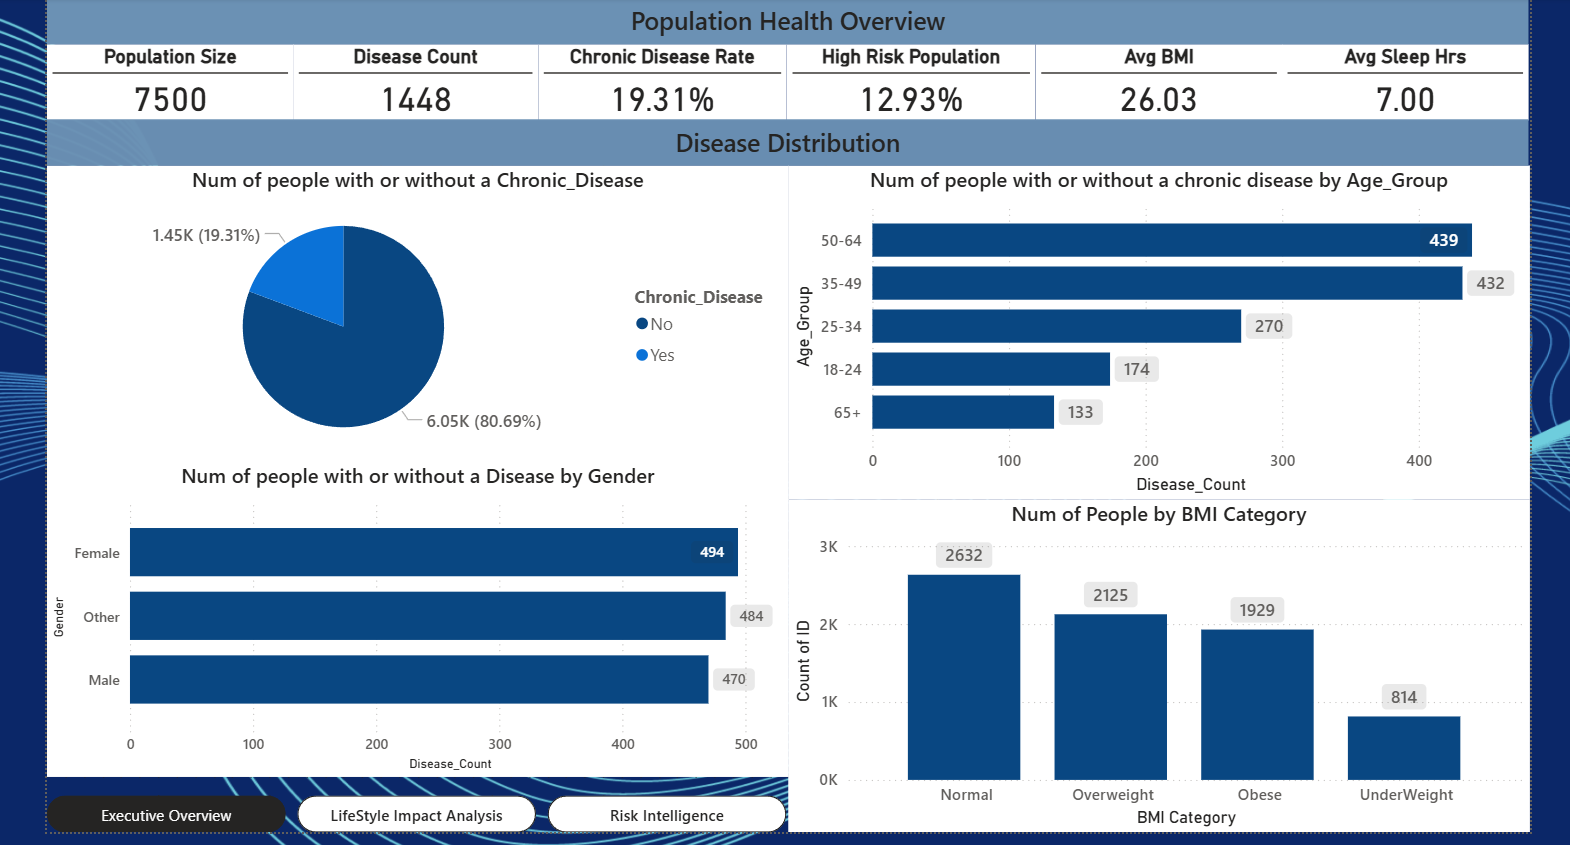

The page's visual inventory and layout, read from the dashboard file:
{"tool":"powerbi","page":{"name":"Executive Overview","canvas":[1280,720],"ordinal":0},"visuals":[{"type":"card","title":"Population Size","fields":{"Values":["synthetic_health_lifestyle_dataset.Total_Individuals"]},"box":[0,40,212.9,65.7],"z":0},{"type":"card","title":"High Risk Population","fields":{"Values":["synthetic_health_lifestyle_dataset.High_Risk_Percentage"]},"box":[638.6,40,214.3,65.7],"z":1000},{"type":"card","title":"Disease Count","fields":{"Values":["synthetic_health_lifestyle_dataset.Disease_Count"]},"box":[212.9,40,211.4,65.7],"z":2000},{"type":"card","title":"Avg BMI","fields":{"Values":["Avg(synthetic_health_lifestyle_dataset.BMI)"]},"box":[852.9,40,212.9,65.7],"z":3000},{"type":"card","title":"Chronic Disease Rate","fields":{"Values":["synthetic_health_lifestyle_dataset.Disease_Rate"]},"box":[424.3,40,214.3,65.7],"z":4000},{"type":"card","title":"Avg Sleep Hrs","fields":{"Values":["Avg(synthetic_health_lifestyle_dataset.Sleep_Hours)"]},"box":[1065.7,40,212.9,65.7],"z":5000},{"type":"pieChart","title":"Num of people with or without a Chronic_Disease","fields":{"Category":["synthetic_health_lifestyle_dataset.Chronic_Disease"],"Y":["CountNonNull(synthetic_health_lifestyle_dataset.ID)"]},"box":[0,144,640,256],"z":6000},{"type":"barChart","title":"Num of people with or without a chronic disease by Age_Group","fields":{"Category":["synthetic_health_lifestyle_dataset.Age_Group"],"Y":["synthetic_health_lifestyle_dataset.Disease_Count"]},"box":[640,144,640,288],"z":7000},{"type":"barChart","title":"Num of people with or without a Disease  by Gender","fields":{"Y":["synthetic_health_lifestyle_dataset.Disease_Count"],"Category":["synthetic_health_lifestyle_dataset.Gender"]},"box":[0,400,640,272],"z":8000},{"type":"columnChart","title":"Num of People by BMI Category","fields":{"Category":["synthetic_health_lifestyle_dataset.BMI Category"],"Y":["CountNonNull(synthetic_health_lifestyle_dataset.ID)"]},"box":[640,432.3,640,288.2],"z":9000},{"type":"textbox","box":[0,104.3,1278.6,40],"z":10000},{"type":"textbox","box":[0,0,1278.6,40],"z":11000},{"type":"pageNavigator","box":[0,688,640,32],"z":12000}]}

Visuals, with their boxes in screenshot pixels (x1, y1, x2, y2):
"Population Size" card: left=41, top=42, right=288, bottom=118
"High Risk Population" card: left=781, top=42, right=1030, bottom=118
"Disease Count" card: left=288, top=42, right=533, bottom=118
"Avg BMI" card: left=1030, top=42, right=1276, bottom=118
"Chronic Disease Rate" card: left=533, top=42, right=781, bottom=118
"Avg Sleep Hrs" card: left=1276, top=42, right=1523, bottom=118
"Num of people with or without a Chronic_Disease" pieChart: left=41, top=163, right=783, bottom=460
"Num of people with or without a chronic disease by Age_Group" barChart: left=783, top=163, right=1525, bottom=497
"Num of people with or without a Disease  by Gender" barChart: left=41, top=460, right=783, bottom=775
"Num of People by BMI Category" columnChart: left=783, top=497, right=1525, bottom=831
textbox: left=41, top=117, right=1523, bottom=163
textbox: left=41, top=0, right=1523, bottom=42
pageNavigator: left=41, top=793, right=783, bottom=831
